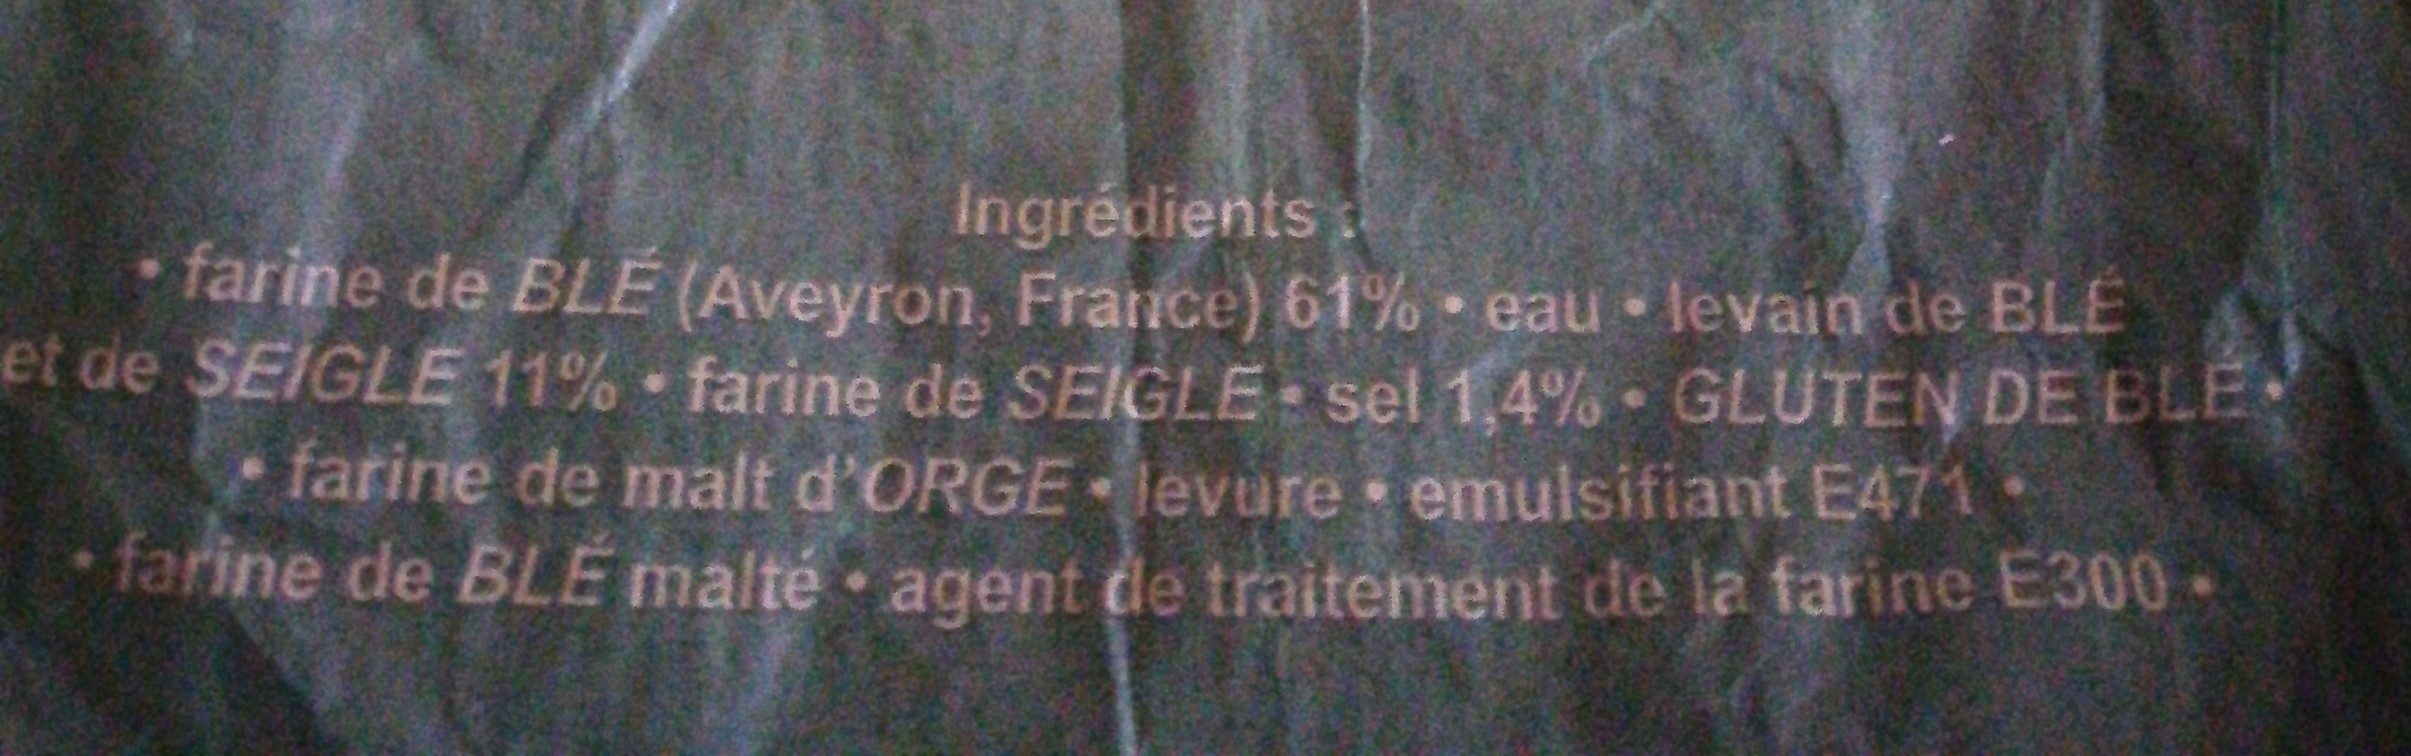ingredients: (5, 177, 2314, 716)
